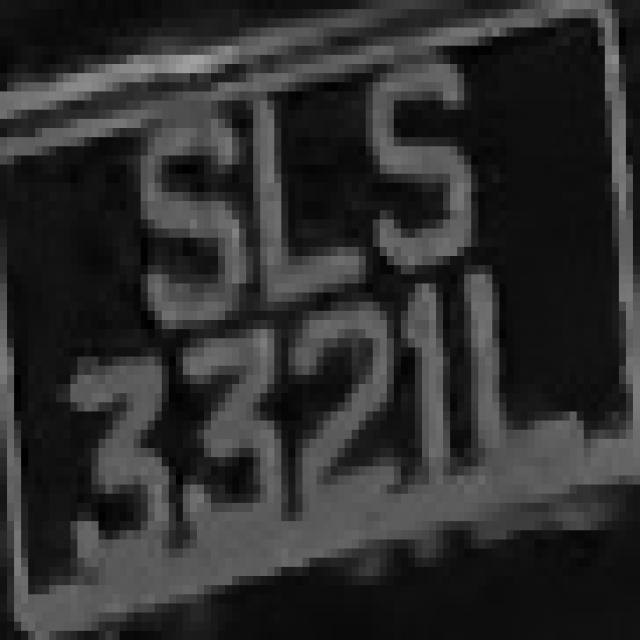1: (394, 274, 478, 521)
2: (281, 302, 394, 576)
3: (35, 338, 183, 594), (162, 329, 302, 576)
L: (197, 101, 345, 329), (457, 274, 598, 476)
S: (113, 92, 239, 338), (338, 73, 485, 265)
